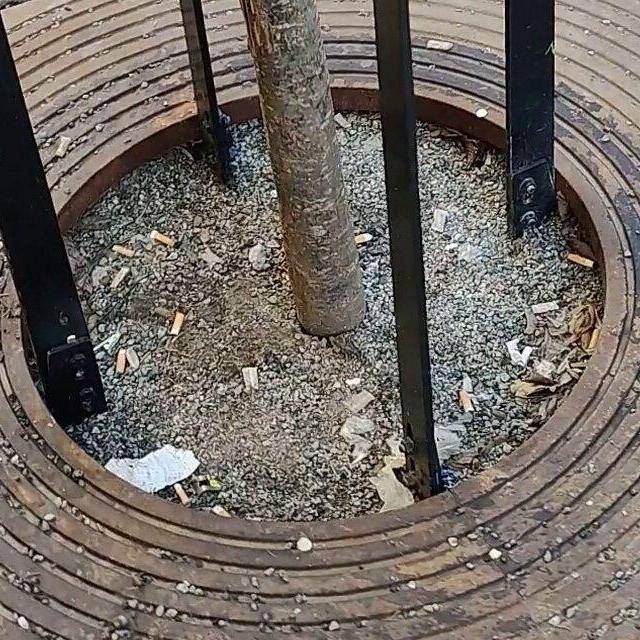Cigarette Butt: (530, 299, 565, 314), (148, 229, 176, 246), (567, 252, 594, 268), (459, 388, 476, 413), (170, 311, 187, 335), (173, 480, 188, 506), (108, 242, 134, 257), (355, 230, 373, 246), (115, 348, 125, 370)
